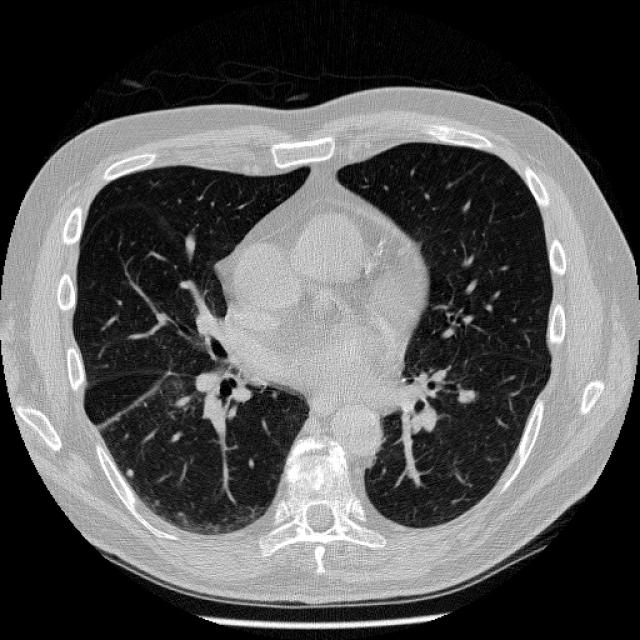nodule: (119, 461, 139, 481)
